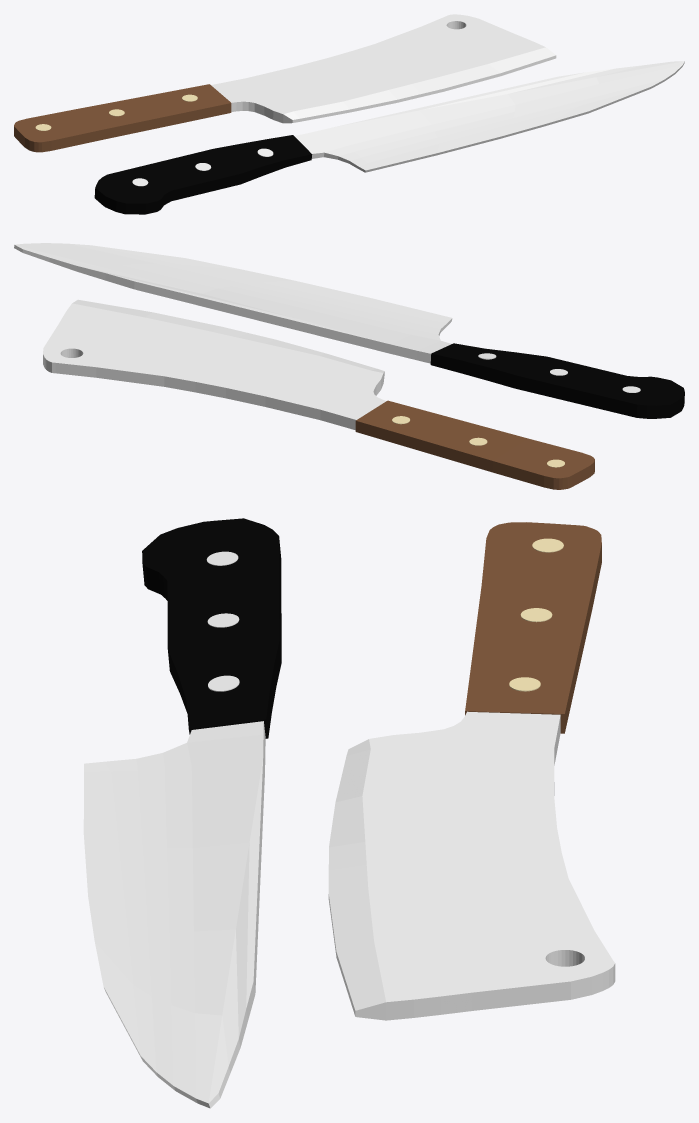
The model's file is Kitchen Knives.fbx.
3 renders of one model, top to bottom at view 1: azimuth 30°, elevation 25°; view 2: azimuth 150°, elevation 25°; view 3: azimuth 270°, elevation 25°, orthographic. The views are drawn at different scales.
Visible parts, largest first — view 1: Cylinder.005, Cylinder.002; view 2: Cylinder.005, Cylinder.002; view 3: Cylinder.005, Cylinder.002.
Boxes of the visible parts, left/top/right/bottom form: Cylinder.005: left=14, top=14, right=556, bottom=152; Cylinder.002: left=94, top=61, right=684, bottom=214; Cylinder.005: left=43, top=299, right=594, bottom=489; Cylinder.002: left=14, top=243, right=684, bottom=418; Cylinder.005: left=328, top=522, right=615, bottom=1020; Cylinder.002: left=83, top=518, right=281, bottom=1108.
Bounding box in the file's own units: 522 × 14.35 × 207.
